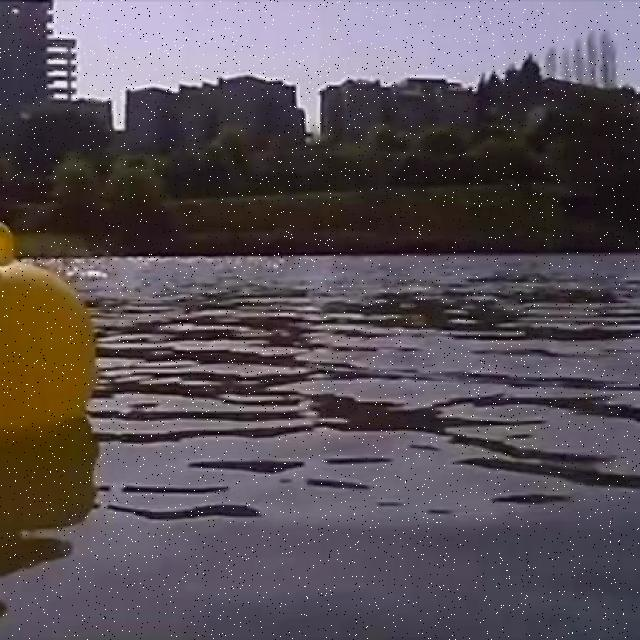buoy: (2, 226, 95, 420)
